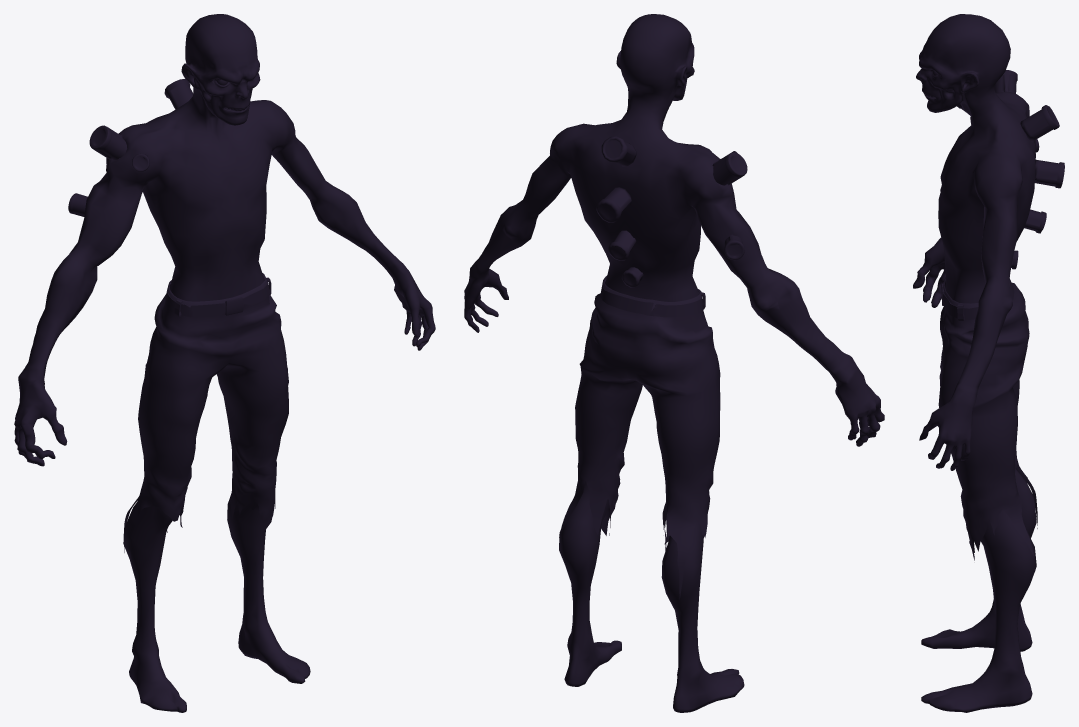
The model's file is Mutant2.fbx.
3 renders of one model, left to right at view 1: azimuth 30°, elevation 25°; view 2: azimuth 150°, elevation 25°; view 3: azimuth 270°, elevation 25°, orthographic.
Visible parts, largest first — view 1: Body_low, Pants_low, Other_low, Belt_low; view 2: Body_low, Pants_low, Other_low, Belt_low; view 3: Body_low, Pants_low, Other_low, Belt_low.
Boxes of the visible parts, left/top/right/bottom form: Body_low: left=14, top=14, right=435, bottom=712; Pants_low: left=124, top=273, right=288, bottom=552; Other_low: left=68, top=79, right=193, bottom=216; Belt_low: left=165, top=282, right=269, bottom=317; Body_low: left=464, top=14, right=884, bottom=712; Pants_low: left=559, top=275, right=720, bottom=599; Other_low: left=596, top=136, right=747, bottom=287; Belt_low: left=600, top=279, right=702, bottom=317; Body_low: left=913, top=14, right=1036, bottom=712; Pants_low: left=938, top=277, right=1037, bottom=560; Other_low: left=957, top=70, right=1064, bottom=269; Belt_low: left=941, top=278, right=1014, bottom=319.
Size of the model in its own units: 109 by 167 by 34.88.
